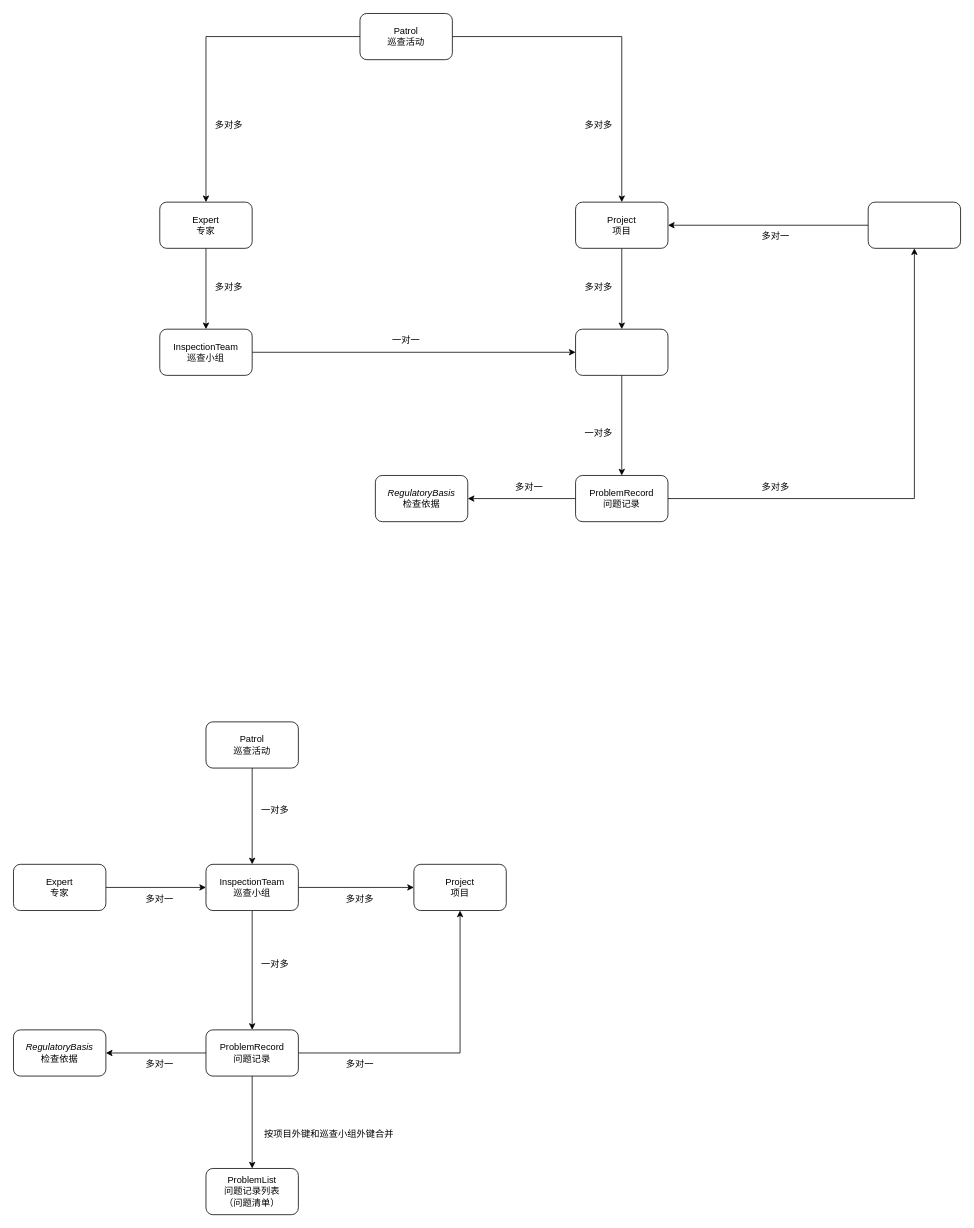
The diagram is 974 pixels wide and 1228 high, and some of its shapes have lost their labels. The shapes that lost their labels are listed below. From the top down, each one's centre as x and y in pixels, then its label:
(x=914, y=224): ProblemList （问题清单） 问题记录列表
(x=621, y=351): InspectionTask 巡查任务
